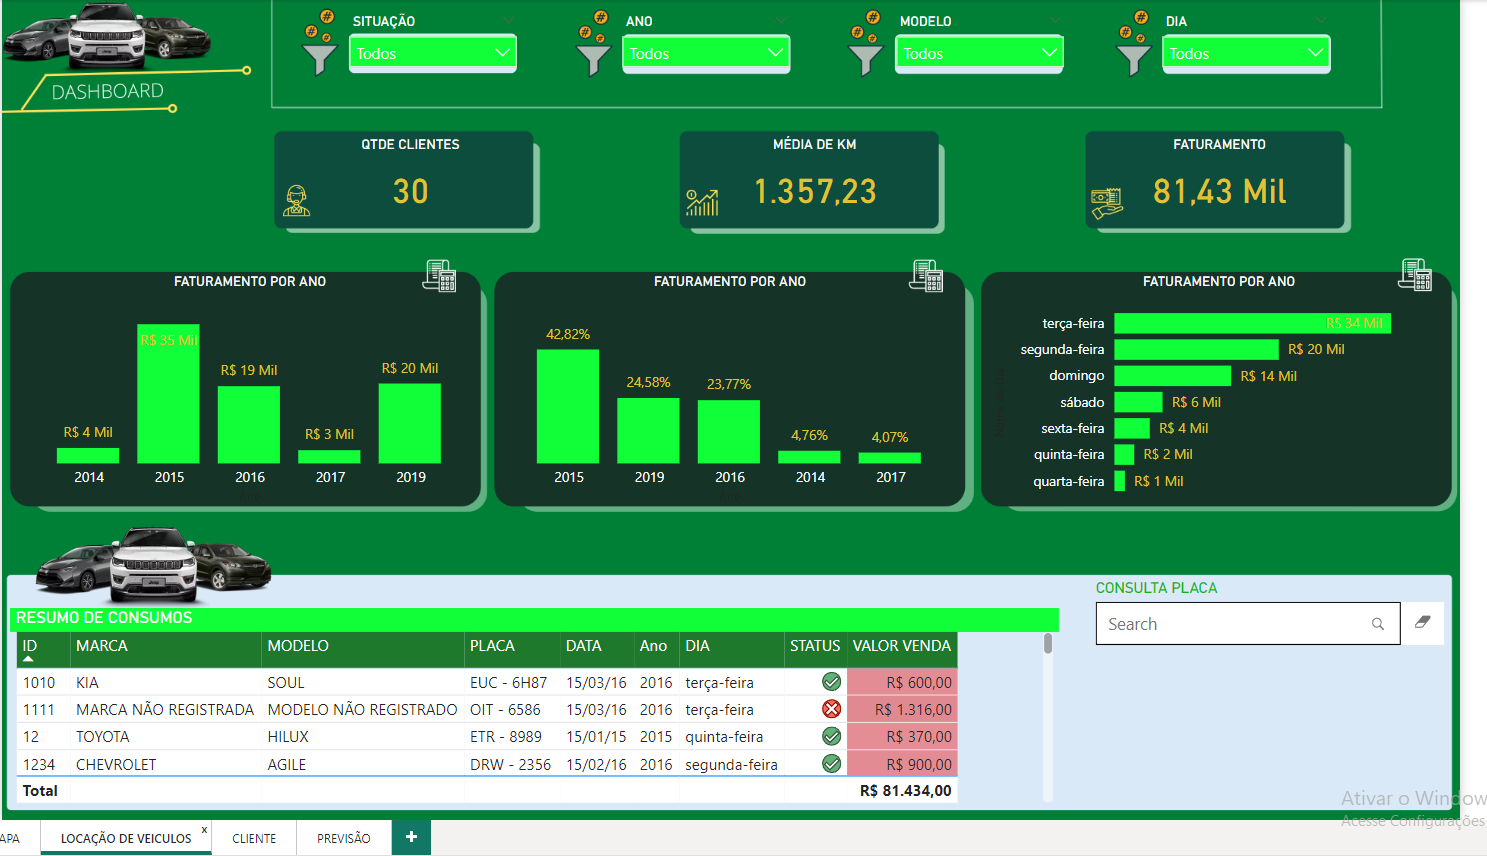

The page's visual inventory and layout, read from the dashboard file:
{"tool":"powerbi","page":{"name":"LOCAÇÃO DE VEICULOS","canvas":[1280,720],"ordinal":1},"visuals":[{"type":"columnChart","title":"FATURAMENTO POR ANO","fields":{"Category":["tb_km.DATA.Variation.Hierarquia de datas.Ano","tb_km.DATA.Variation.Hierarquia de datas.Trimestre","tb_km.DATA.Variation.Hierarquia de datas.Mês","tb_km.DATA.Variation.Hierarquia de datas.Dia"],"Y":["tb_km.FAT MEDIDA"]},"box":[14.6,239.3,405.6,206.2],"z":0},{"type":"columnChart","title":"FATURAMENTO POR ANO","fields":{"Category":["tb_km.DATA.Variation.Hierarquia de datas.Ano","tb_km.DATA.Variation.Hierarquia de datas.Mês"],"Y":["tb_km.FAT MEDIDA"]},"box":[436.7,239.3,405.6,206.2],"z":1000},{"type":"barChart","title":"FATURAMENTO POR ANO","fields":{"Y":["tb_km.FAT MEDIDA"],"Category":["tb_km.Nome do Dia"]},"box":[865.7,239.3,405.6,206.2],"z":2000},{"type":"slicer","fields":{"Values":["tb_km.SITUAÇÃO CADASTRAL"]},"box":[294.7,6.8,167.3,66.1],"z":3000},{"type":"card","title":"FATURAMENTO","fields":{"Values":["Sum(tb_km.TOTAL VENDA)"]},"box":[955.1,119.6,227.6,79.8],"z":4000},{"type":"slicer","fields":{"Values":["tb_km.Ano"]},"box":[535,6.8,167.3,66.1],"z":5000},{"type":"slicer","fields":{"Values":["tb_km.MODELO"]},"box":[775.2,6.8,167.3,66.1],"z":6000},{"type":"slicer","fields":{"Values":["tb_km.Nome do Dia"]},"box":[1008.6,6.8,167.3,66.1],"z":7000},{"type":"card","title":"MÉDIA DE KM","fields":{"Values":["tb_km.MEDIA KM"]},"box":[600.1,119.6,227.6,79.8],"z":8000},{"type":"card","title":"QTDE CLIENTES","fields":{"Values":["Count(tb_km.ID_CLIENTE)"]},"box":[245.1,119.6,227.6,79.8],"z":9000},{"type":"tableEx","title":"RESUMO DE CONSUMOS","fields":{"Values":["tb_km.ID_CLIENTE","tb_km.MARCA","tb_km.MODELO","tb_km.PLACA","tb_km.DATA","tb_km.Ano","tb_km.Nome do Dia","tb_km.ICONE","tb_km.FAT MEDIDA"]},"box":[6.8,534,921.1,176],"z":10000},{"type":"textFilter25A4896A83E0487089E2B90C9AE57C8A","title":"CONSULTA PLACA","fields":{"field":["tb_km.PLACA"]},"box":[955.1,508.7,316.1,120.6],"z":11000}]}

Visuals, with their boxes on the page's 1280x720 design canvas (x1, y1, x2, y2). These are canvas units, not pixel positions in the 1487x856 screenshot, which may show the page scaled, cropped or inside an application window:
"FATURAMENTO POR ANO" columnChart: left=15, top=239, right=420, bottom=446
"FATURAMENTO POR ANO" columnChart: left=437, top=239, right=842, bottom=446
"FATURAMENTO POR ANO" barChart: left=866, top=239, right=1271, bottom=446
slicer - tb_km.SITUAÇÃO CADASTRAL: left=295, top=7, right=462, bottom=73
"FATURAMENTO" card: left=955, top=120, right=1183, bottom=199
slicer - tb_km.Ano: left=535, top=7, right=702, bottom=73
slicer - tb_km.MODELO: left=775, top=7, right=942, bottom=73
slicer - tb_km.Nome do Dia: left=1009, top=7, right=1176, bottom=73
"MÉDIA DE KM" card: left=600, top=120, right=828, bottom=199
"QTDE CLIENTES" card: left=245, top=120, right=473, bottom=199
"RESUMO DE CONSUMOS" tableEx: left=7, top=534, right=928, bottom=710
"CONSULTA PLACA" textFilter25A4896A83E0487089E2B90C9AE57C8A: left=955, top=509, right=1271, bottom=629
